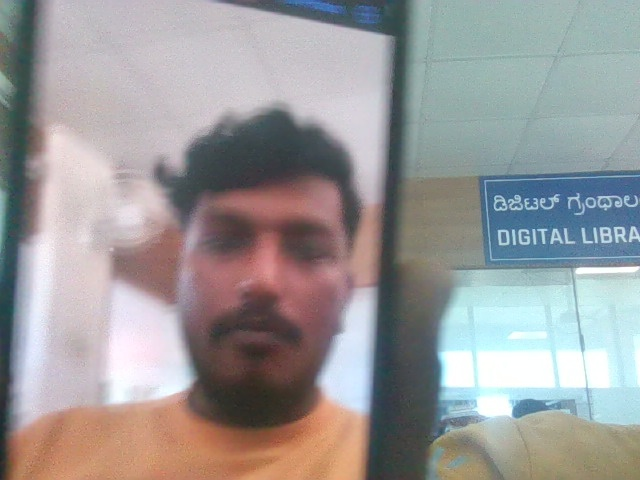fake: (145, 82, 383, 420)
